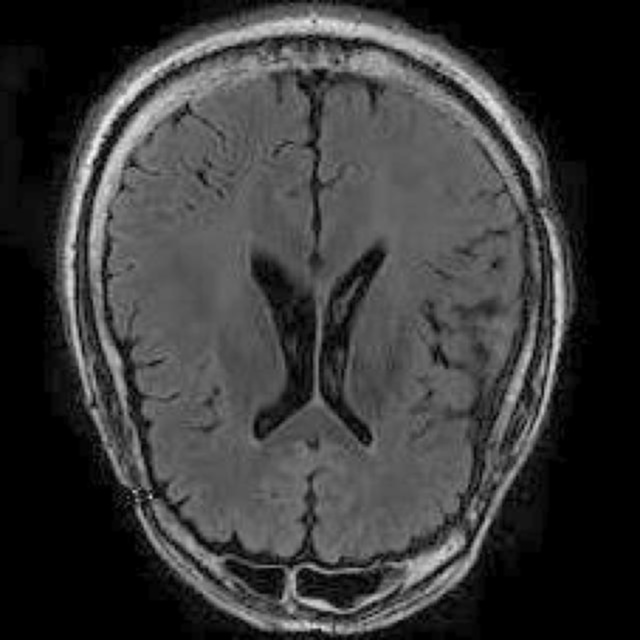glioma tumor: (161, 92, 471, 551)
